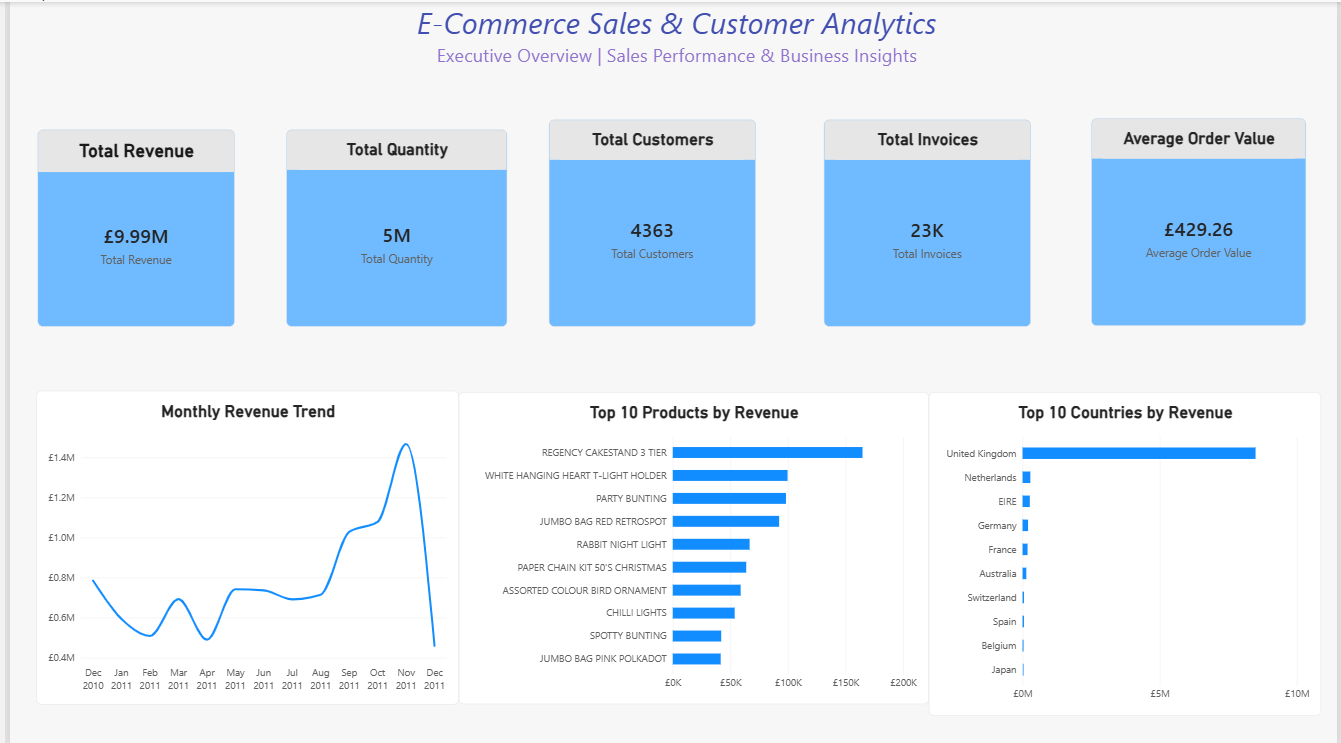

What the dashboard file says about the page in this screenshot:
{"tool":"powerbi","page":{"name":"Executive Overview","canvas":[1920,1080],"ordinal":0},"visuals":[{"type":"textbox","box":[10.9,57.9,1909.2,124.9],"z":0},{"type":"card","title":"Total Revenue","fields":{"Values":["sales_clean.Total Revenue"]},"box":[39,184,285.7,285.7],"z":1000},{"type":"card","title":"Total Quantity","fields":{"Values":["sales_clean.Total Quantity"]},"box":[400.4,184,320.3,285.7],"z":2000},{"type":"card","title":"Total Invoices","fields":{"Values":["sales_clean.Total Invoices"]},"box":[1177.3,171,300,300],"z":3000},{"type":"card","title":"Total Customers","fields":{"Values":["sales_clean.Total Customers"]},"box":[779.1,171,300,300],"z":4000},{"type":"lineChart","title":"Monthly Revenue Trend","fields":{"Category":["Date Table.Month Year"],"Y":["sales_clean.Total Revenue"]},"box":[38.4,563.2,612.3,454.4],"z":5000},{"type":"clusteredBarChart","title":"Top 10 Products by Revenue","fields":{"Category":["sales_clean.Description"],"Y":["sales_clean.Total Revenue"]},"box":[649.7,564.6,680.5,452.3],"z":6000},{"type":"card","title":"Average Order Value","fields":{"Values":["sales_clean.Average Order Value"]},"box":[1564.7,168.8,311.3,300.4],"z":7000},{"type":"clusteredBarChart","title":"Top 10 Countries by Revenue","fields":{"Category":["country_summary.Country"],"Y":["sales_clean.Total Revenue"]},"box":[1330.1,564.6,568.2,468.7],"z":8000},{"type":"textbox","box":[10.9,0,1909.2,115.8],"z":9000}]}

Visuals, with their boxes in screenshot pixels (x1, y1, x2, y2), scaled from the page's 1920x1080 canvas onto the 1341x743 screenshot:
textbox: pyautogui.locateOnScreen(8, 40, 1340, 126)
"Total Revenue" card: pyautogui.locateOnScreen(27, 127, 227, 323)
"Total Quantity" card: pyautogui.locateOnScreen(280, 127, 503, 323)
"Total Invoices" card: pyautogui.locateOnScreen(822, 118, 1032, 324)
"Total Customers" card: pyautogui.locateOnScreen(544, 118, 754, 324)
"Monthly Revenue Trend" lineChart: pyautogui.locateOnScreen(27, 387, 454, 700)
"Top 10 Products by Revenue" clusteredBarChart: pyautogui.locateOnScreen(454, 388, 929, 700)
"Average Order Value" card: pyautogui.locateOnScreen(1093, 116, 1310, 323)
"Top 10 Countries by Revenue" clusteredBarChart: pyautogui.locateOnScreen(929, 388, 1326, 711)
textbox: pyautogui.locateOnScreen(8, 0, 1340, 80)
